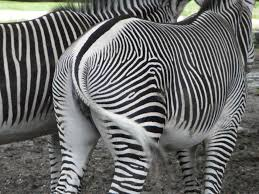zebra: (48, 1, 255, 193), (1, 1, 175, 140)
